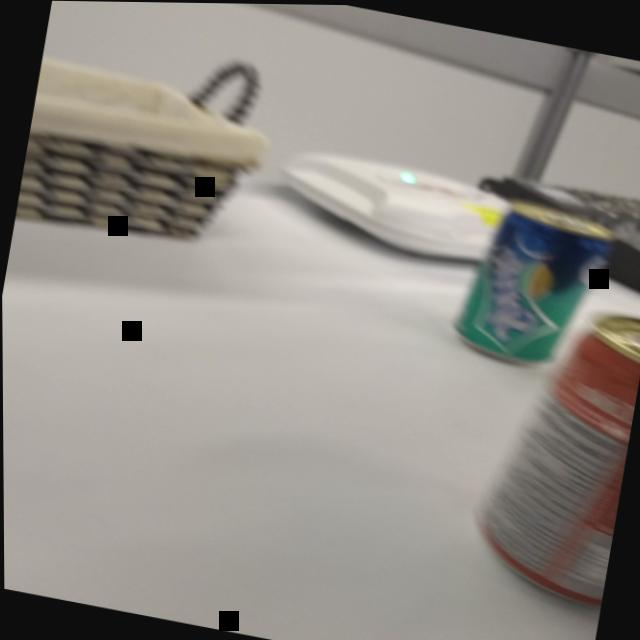sprite: (442, 182, 623, 382)
